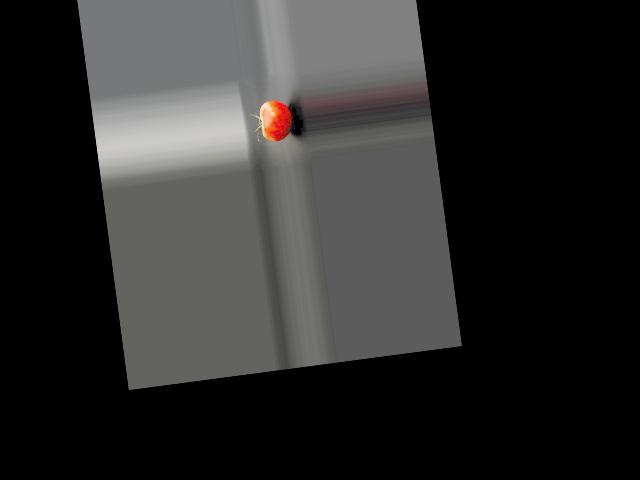tomato: (258, 97, 294, 142)
